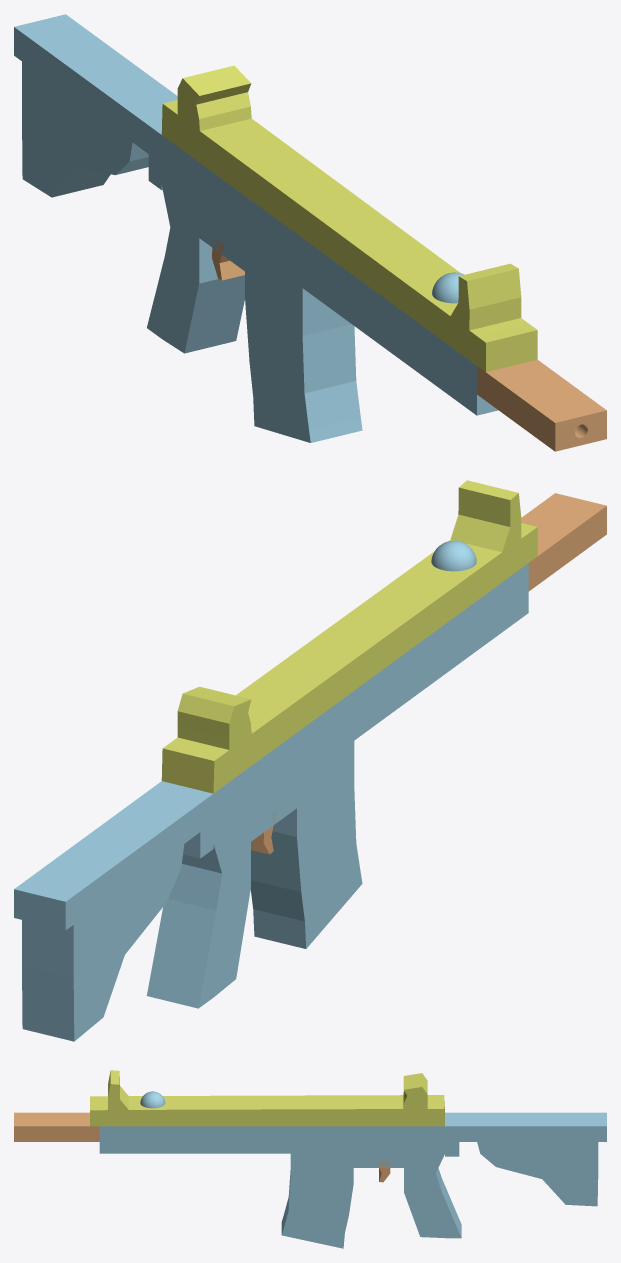
The model's file is gumball rifle.fbx.
3 renders of one model, top to bottom at view 1: azimuth 30°, elevation 25°; view 2: azimuth 150°, elevation 25°; view 3: azimuth 270°, elevation 25°, orthographic. The views are drawn at different scales.
Visible parts, largest first — view 1: RifleBase, RifleBase.001, RifleBase.002, Gumball, RifleTrigger; view 2: RifleBase, RifleBase.001, RifleBase.002, Gumball; view 3: RifleBase, RifleBase.001, RifleBase.002, Gumball.
Boxes of the visible parts, box(x1,y1,x2,y2) form: RifleBase: box(14, 14, 498, 442); RifleBase.001: box(161, 65, 537, 371); RifleBase.002: box(477, 359, 606, 451); Gumball: box(432, 272, 464, 303); RifleTrigger: box(212, 239, 244, 280); RifleBase: box(14, 563, 528, 1041); RifleBase.001: box(161, 480, 537, 793); RifleBase.002: box(521, 493, 606, 591); Gumball: box(431, 540, 476, 571); RifleBase: box(99, 1112, 606, 1248); RifleBase.001: box(90, 1070, 444, 1126); RifleBase.002: box(14, 1112, 99, 1141); Gumball: box(140, 1091, 165, 1108).
Bounding box in the file's own units: 26 × 144 × 471.
